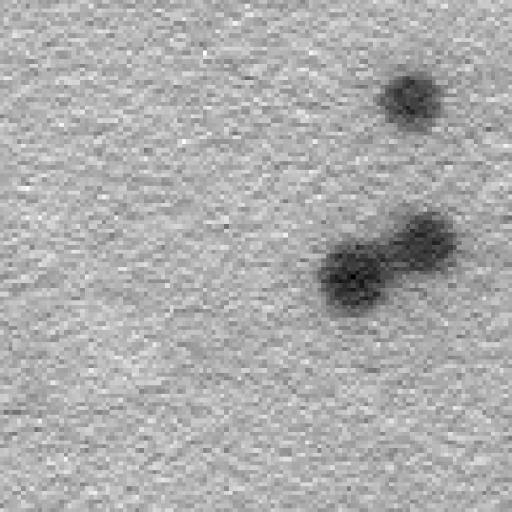Nanoparticles: (384, 208, 462, 279), (320, 244, 395, 317), (380, 70, 449, 146)
